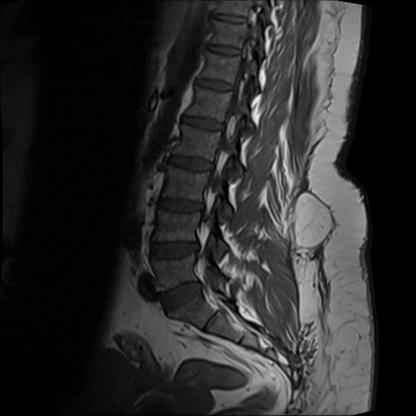Disc Bulgerotation: (156, 280, 209, 312)
